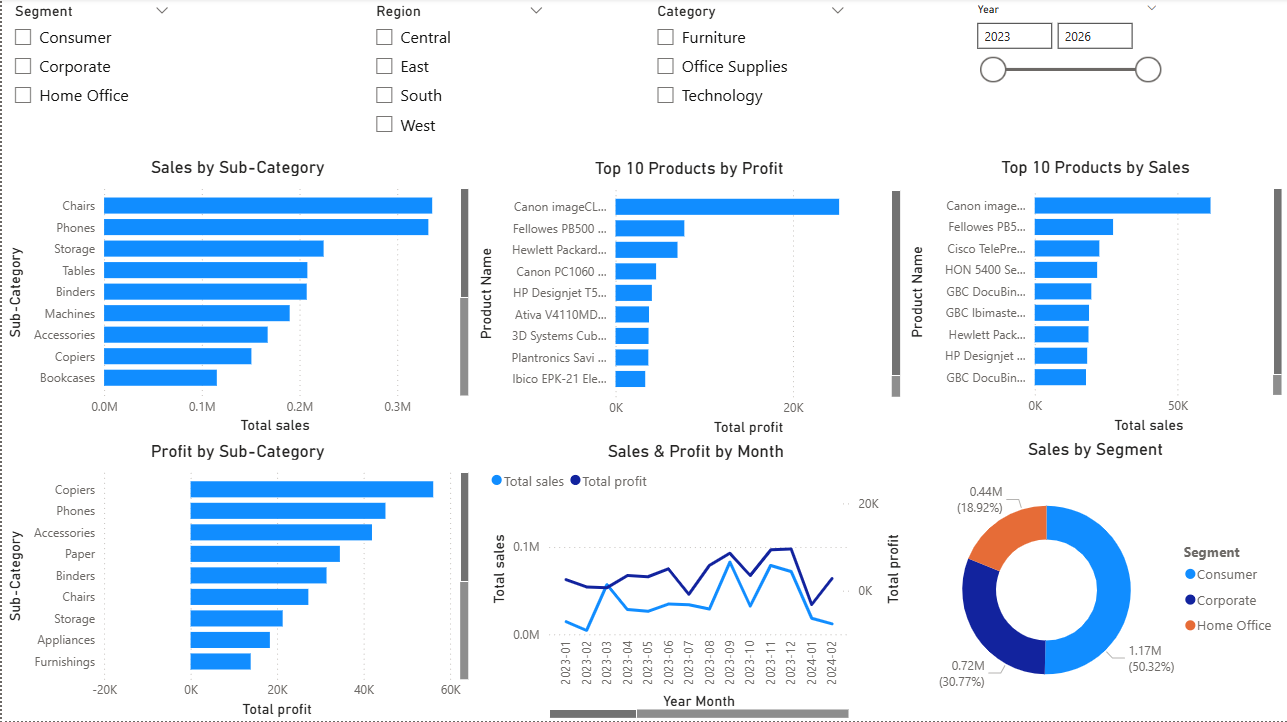

The page's visual inventory and layout, read from the dashboard file:
{"tool":"powerbi","page":{"name":"Sales & Profit Analysis","canvas":[1280,720],"ordinal":1},"visuals":[{"type":"lineChart","title":"Sales & Profit by Month","fields":{"Category":["DateTable.Year Month"],"Y":["samplesuperstore orgnal.Total sales"],"Y2":["meagures.Total profit"]},"box":[480.8,439.9,418,280.6],"z":0},{"type":"barChart","title":"Sales by Sub-Category","fields":{"Category":["samplesuperstore orgnal.Sub-Category"],"Y":["samplesuperstore orgnal.Total sales"]},"box":[0,157.8,469.1,280.6],"z":1000},{"type":"barChart","title":"Profit by Sub-Category","fields":{"Category":["samplesuperstore orgnal.Sub-Category"],"Y":["samplesuperstore orgnal.Total profit"]},"box":[0,439.9,469.1,280.6],"z":2000},{"type":"barChart","title":"Top 10 Products by Sales","fields":{"Category":["samplesuperstore orgnal.Product Name"],"Y":["samplesuperstore orgnal.Total sales"]},"box":[898.8,157.5,380,280],"z":3000},{"type":"barChart","title":"Top 10 Products by Profit","fields":{"Category":["samplesuperstore orgnal.Product Name"],"Y":["samplesuperstore orgnal.Total profit"]},"box":[469.1,159.3,429.7,280.6],"z":4000},{"type":"donutChart","title":"Sales by Segment","fields":{"Category":["samplesuperstore orgnal.Segment"],"Y":["samplesuperstore orgnal.Total sales"]},"box":[898.8,438.8,380,281.2],"z":6000},{"type":"slicer","fields":{"Values":["DateTable.Year"]},"box":[957.5,0,203.8,146.2],"z":7000},{"type":"slicer","fields":{"Values":["samplesuperstore orgnal.Category"]},"box":[640,0,211.2,146.2],"z":8000},{"type":"slicer","fields":{"Values":["samplesuperstore orgnal.Region"]},"box":[360,0,191.2,146.2],"z":9000},{"type":"slicer","fields":{"Values":["samplesuperstore orgnal.Segment"]},"box":[0,0,178.3,146.2],"z":10000}]}

Visuals, with their boxes in screenshot pixels (x1, y1, x2, y2), scaled from the page's 1280x720 canvas onto the 1287x722 screenshot:
"Sales & Profit by Month" lineChart: [left=483, top=441, right=904, bottom=721]
"Sales by Sub-Category" barChart: [left=0, top=158, right=472, bottom=440]
"Profit by Sub-Category" barChart: [left=0, top=441, right=472, bottom=721]
"Top 10 Products by Sales" barChart: [left=904, top=158, right=1286, bottom=439]
"Top 10 Products by Profit" barChart: [left=472, top=160, right=904, bottom=441]
"Sales by Segment" donutChart: [left=904, top=440, right=1286, bottom=721]
slicer - DateTable.Year: [left=963, top=0, right=1168, bottom=147]
slicer - samplesuperstore orgnal.Category: [left=644, top=0, right=856, bottom=147]
slicer - samplesuperstore orgnal.Region: [left=362, top=0, right=554, bottom=147]
slicer - samplesuperstore orgnal.Segment: [left=0, top=0, right=179, bottom=147]
